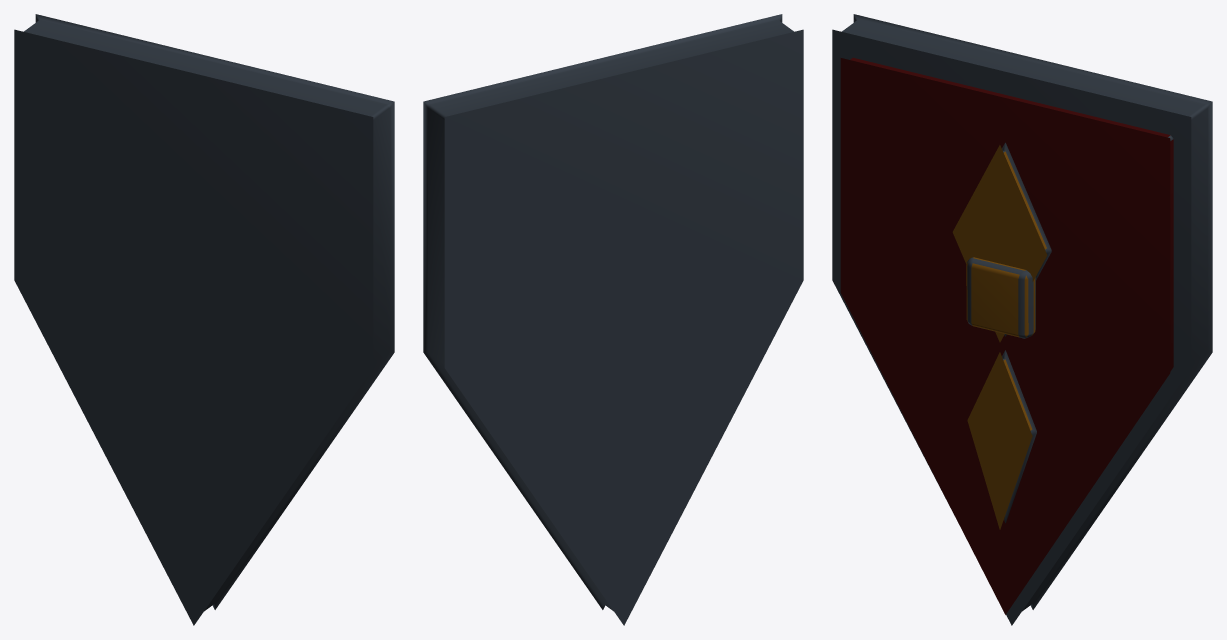
Rendered from Escudo_PavesJuramento.fbx.
The picture shows the model from 3 angles, left to right: view 1: azimuth 90°, elevation 25°; view 2: azimuth 150°, elevation 25°; view 3: azimuth 270°, elevation 25°; orthographic projection.
Visible parts, largest first — view 1: Piece; view 2: Piece; view 3: Piece.
Part boxes in pixels (box(x1,y1,x2,y2)): Piece: box(14, 14, 394, 625); Piece: box(423, 14, 803, 625); Piece: box(832, 14, 1212, 625).
Size of the model in its own units: 0.2902 by 0.7178 by 0.4473.
